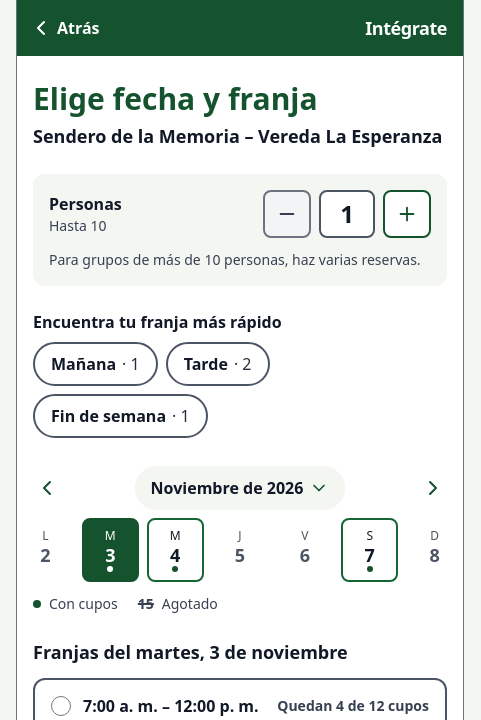
selector de franjas (T-1.10b) › filtra por período y fin de semana con conteos, y avisa cuando nada coincide
This screenshot has width=481, height=720.
Expected: the button "Mañana · 1" is shown, x1=33 y1=342 x2=158 y2=386
Expected: the button "Fin de semana · 1" is shown, x1=33 y1=394 x2=208 y2=438
Click the button "Tarde · 2" at (218, 364), box x1=166 y1=342 x2=270 y2=386
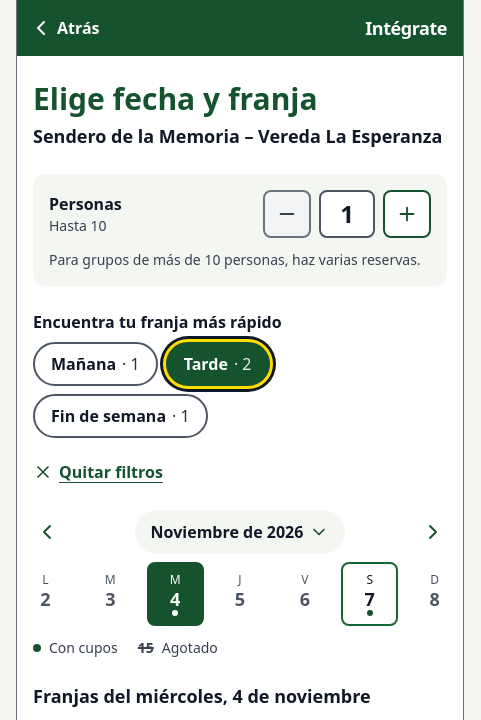
Expected: the button "Tarde · 2" is pressed, x1=166 y1=342 x2=270 y2=386
Click the button "Fin de semana · 1" at (120, 416), box x1=33 y1=394 x2=208 y2=438
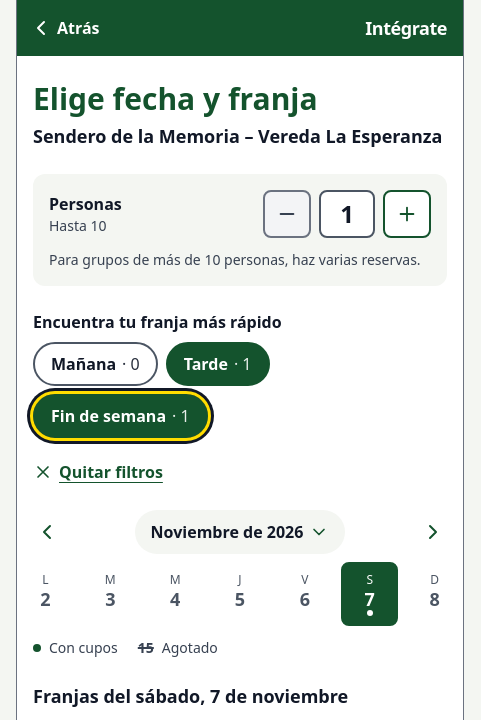
Click the button "Tarde · 1" at (218, 364), box x1=166 y1=342 x2=270 y2=386
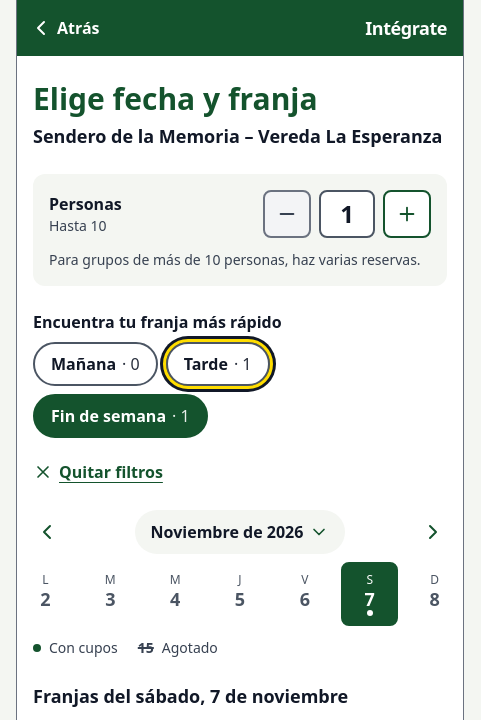
Click the button "Mañana · 0" at (95, 364), box x1=33 y1=342 x2=158 y2=386
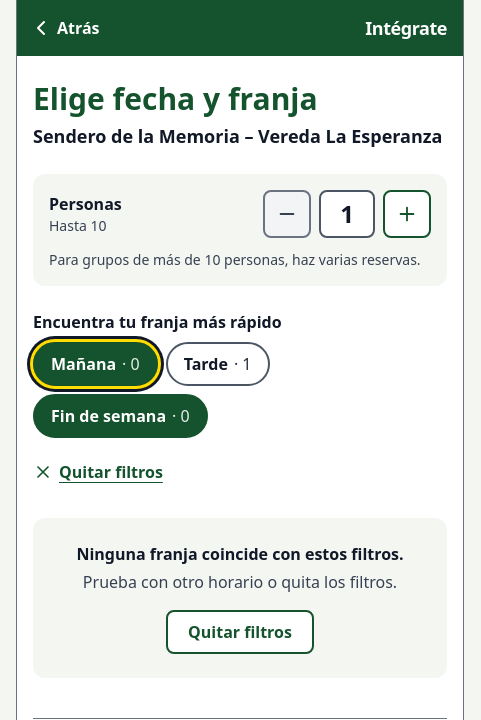
Expected: the text "Ninguna franja coincide con estos filtros." is shown, x1=49 y1=542 x2=431 y2=566
Click the button "Quitar filtros" below "Encuentra tu franja más rápido" at (98, 472), box x1=33 y1=450 x2=163 y2=494
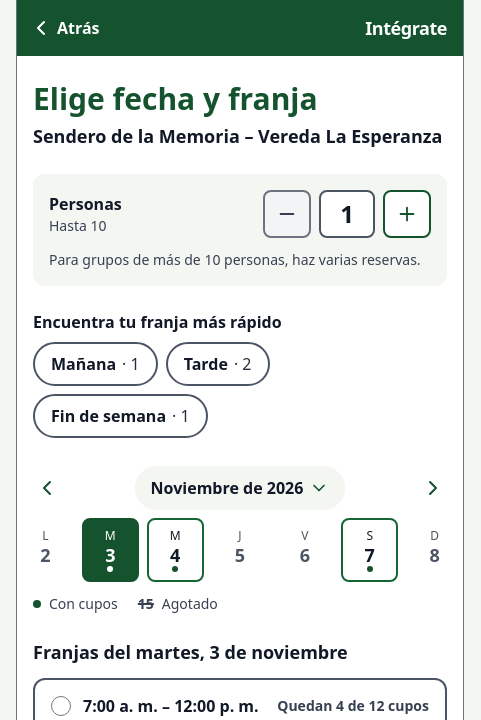
Expected: the text "Ninguna franja coincide con estos filtros." is gone
